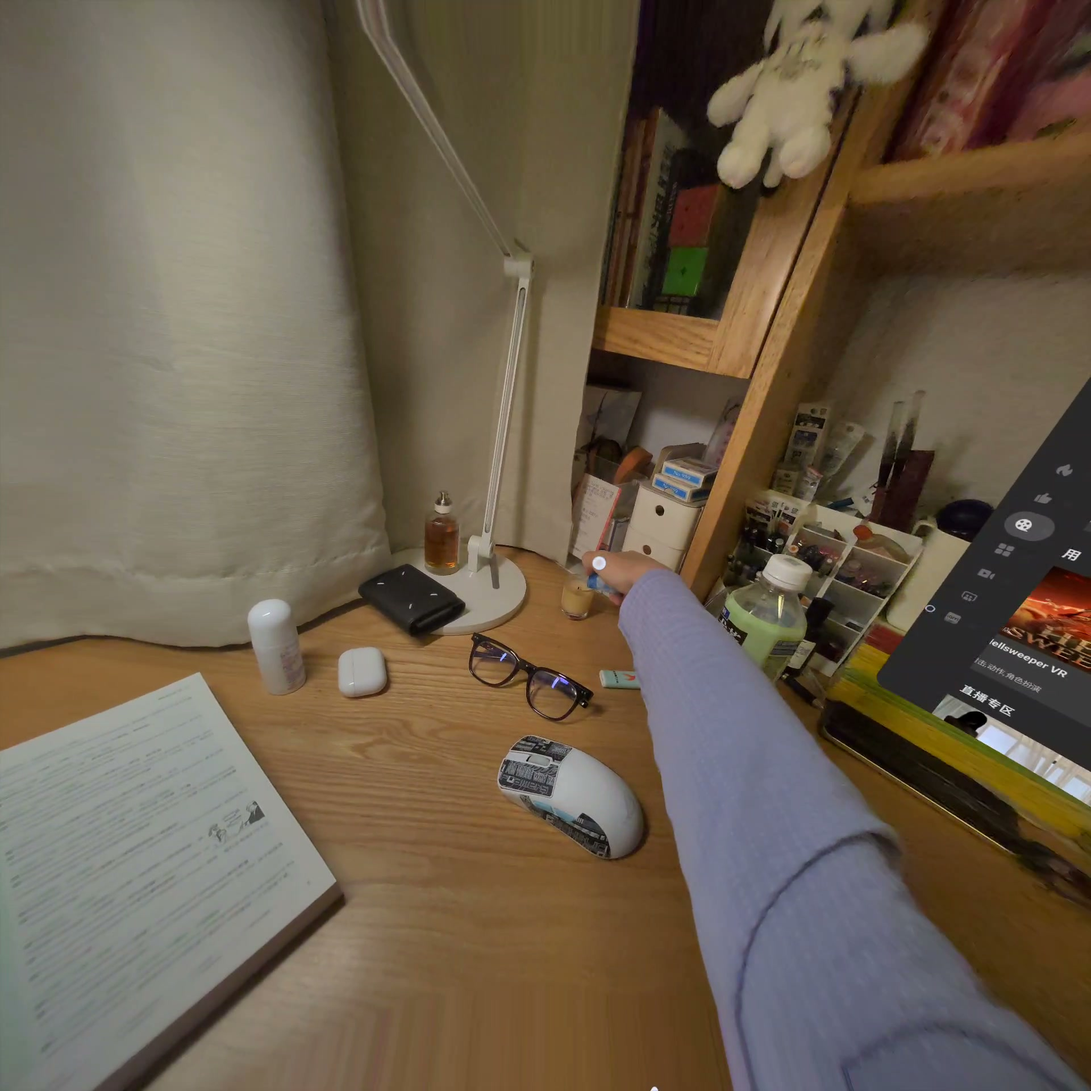lighter: (588, 570, 615, 596)
